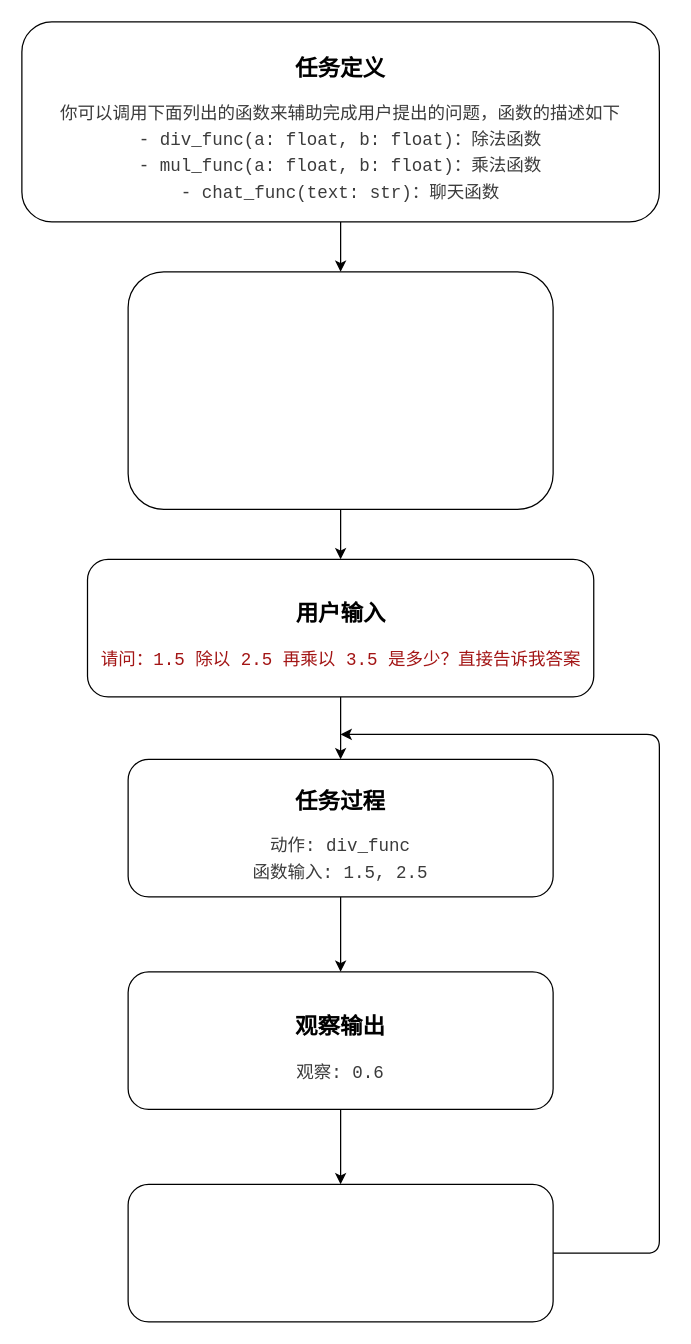
This 691x1344 diagram has some shape labels left out. The shapes that lost their labels are listed below. From the top down, each one's box as (x1, y1, x2, y2) in pixels, then its label:
(127, 271, 553, 509): 对话流程描述 动作: <你要调用的函数名称> 函数输入: <输入函数的值...> 观察: <函数的输出结果> 思考: <你对接下来的思考>
(127, 1183, 553, 1322): 对当前状态与未来进行思考 思考: 我将使用乘法函数将观察到的结果乘以3.5来得到最终答案。
